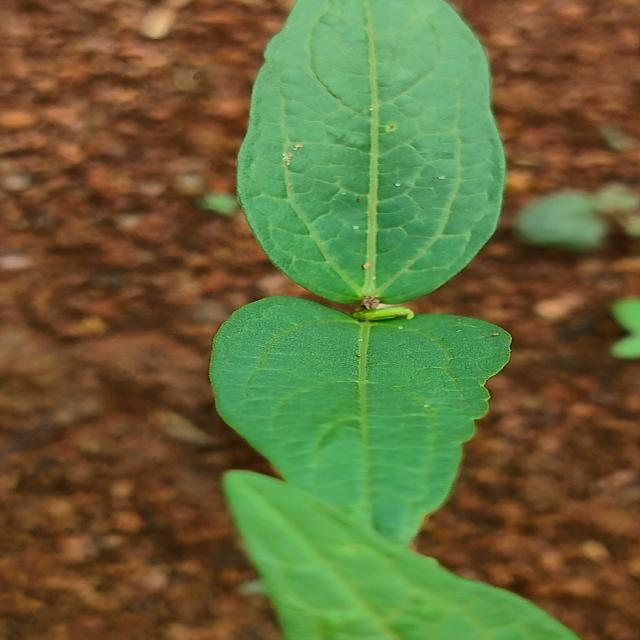Black gram_healthy: (243, 3, 503, 311), (218, 288, 512, 553), (220, 467, 582, 639)
